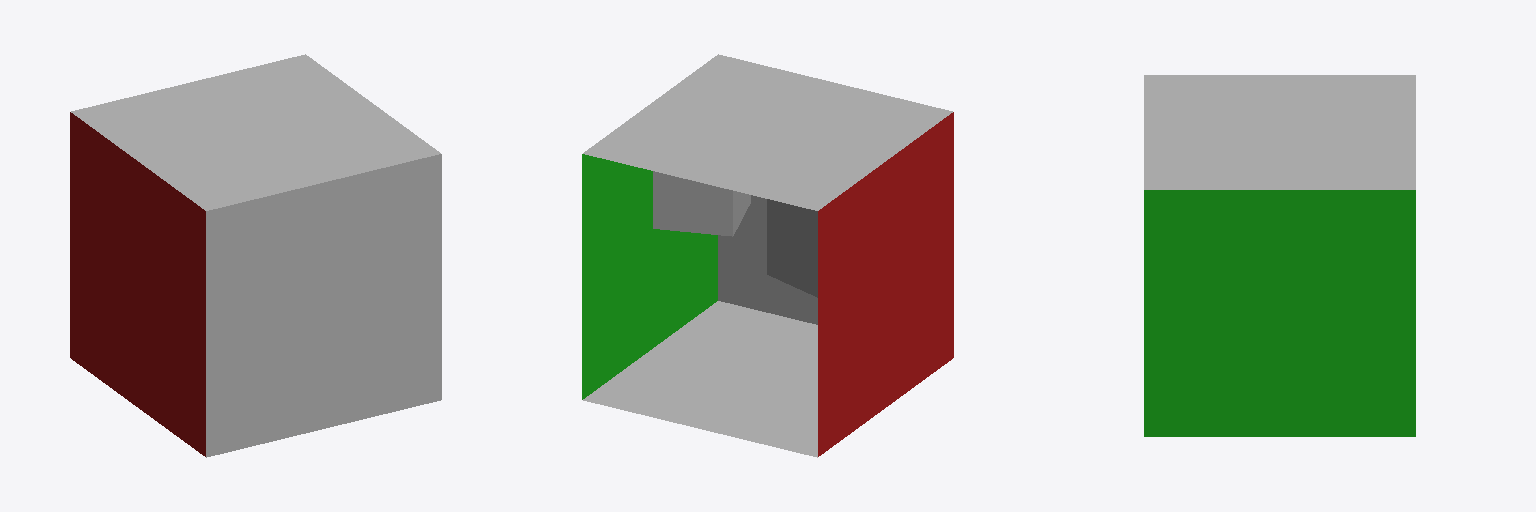
Rendered from cornel.obj.
3 renders of one model, left to right at view 1: azimuth 30°, elevation 25°; view 2: azimuth 150°, elevation 25°; view 3: azimuth 270°, elevation 25°, orthographic.
Bounding box in the file's own units: 2 × 2 × 2.